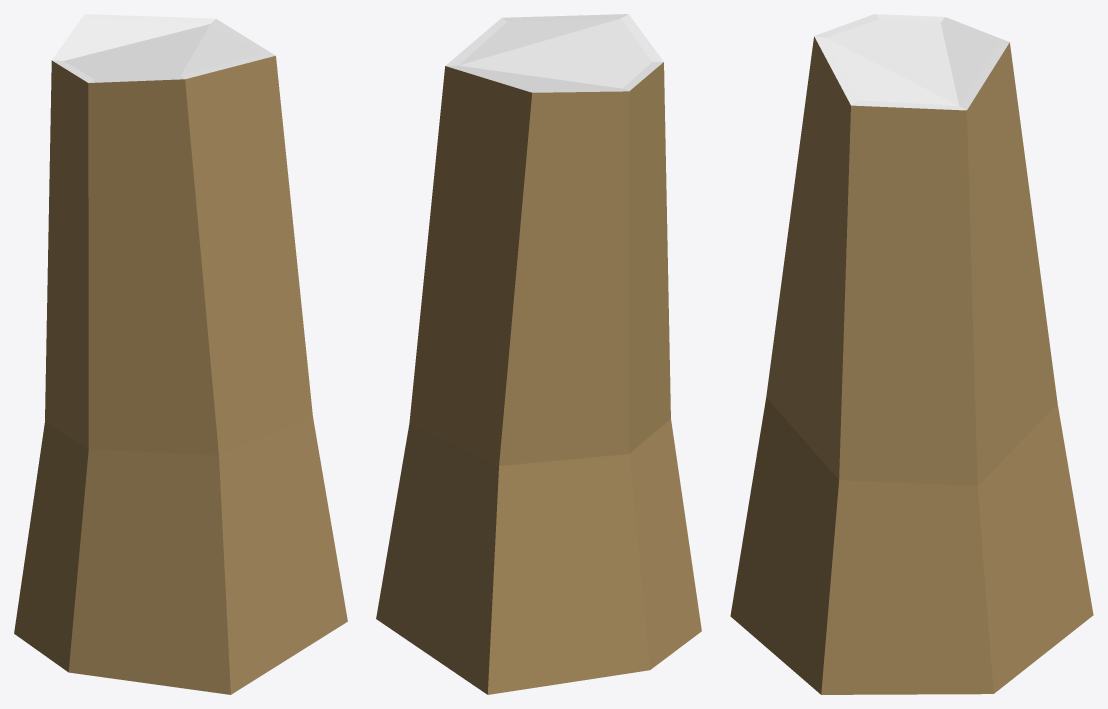
The model's file is Oak_Stump_Snow_01.fbx.
3 views of the same model, side by side, from view 1: azimuth 30°, elevation 25°; view 2: azimuth 150°, elevation 25°; view 3: azimuth 270°, elevation 25° (orthographic).
Visible parts, largest first — view 1: Oak_Stump_Snow_01; view 2: Oak_Stump_Snow_01; view 3: Oak_Stump_Snow_01.
Part boxes in pixels (x1,y1,x2,y2): Oak_Stump_Snow_01: [14, 14, 347, 694]; Oak_Stump_Snow_01: [376, 14, 701, 694]; Oak_Stump_Snow_01: [730, 14, 1093, 694].
Bounding box in the file's own units: 63.36 × 135 × 76.71.
